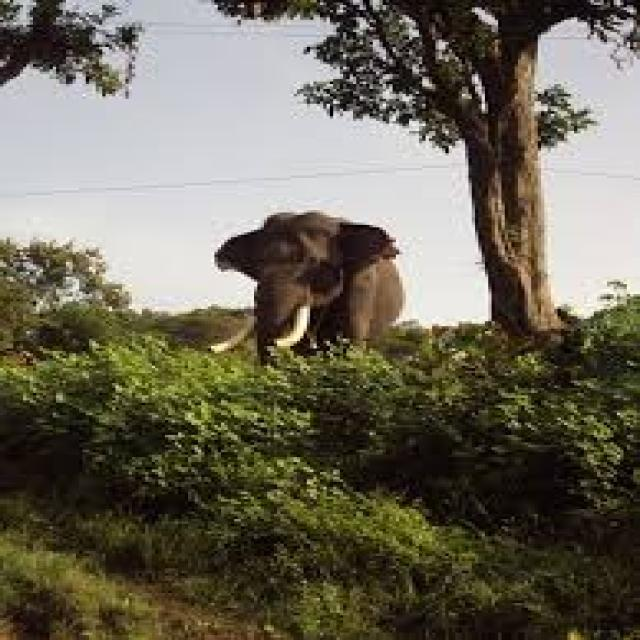Elephant: (208, 202, 424, 385)
